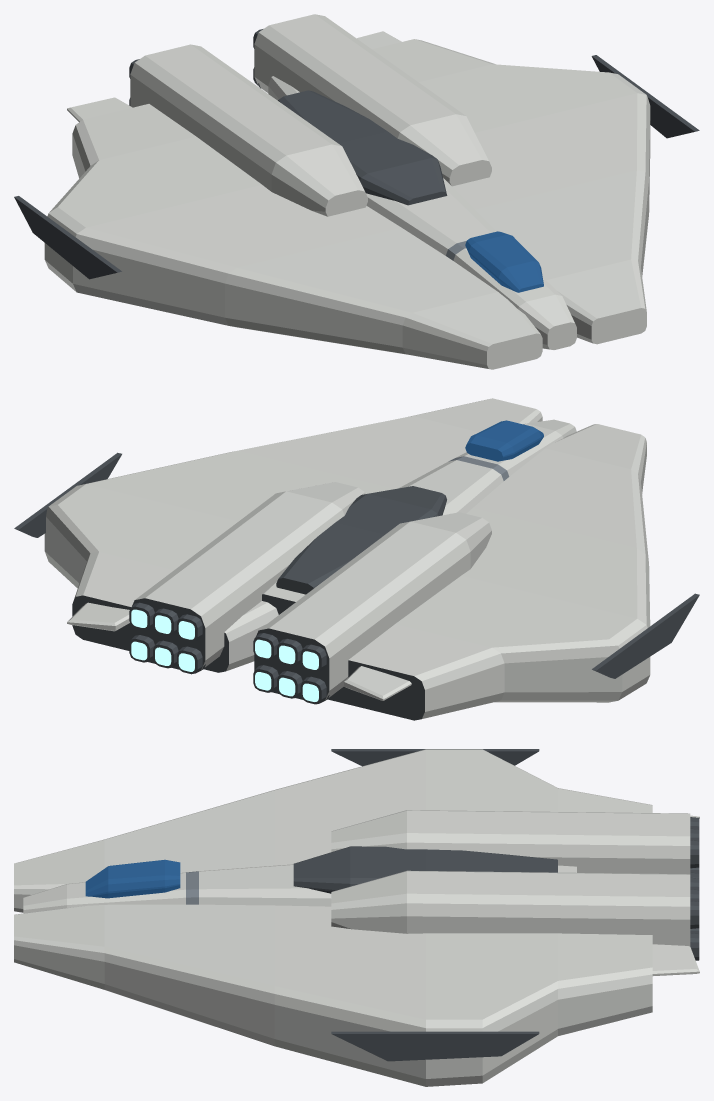
Rendered from krait-mk2.glb.
3 renders of one model, top to bottom at view 1: azimuth 30°, elevation 25°; view 2: azimuth 150°, elevation 25°; view 3: azimuth 270°, elevation 25°, orthographic.
Parts seen in each view (by area): view 1: krait-mk2; view 2: krait-mk2; view 3: krait-mk2.
Part boxes in pixels (left/top/right/bottom): krait-mk2: left=14, top=14, right=699, bottom=369; krait-mk2: left=14, top=398, right=699, bottom=720; krait-mk2: left=14, top=749, right=699, bottom=1086.
Bounding box in the file's own units: 71.4 × 14 × 72.62.
